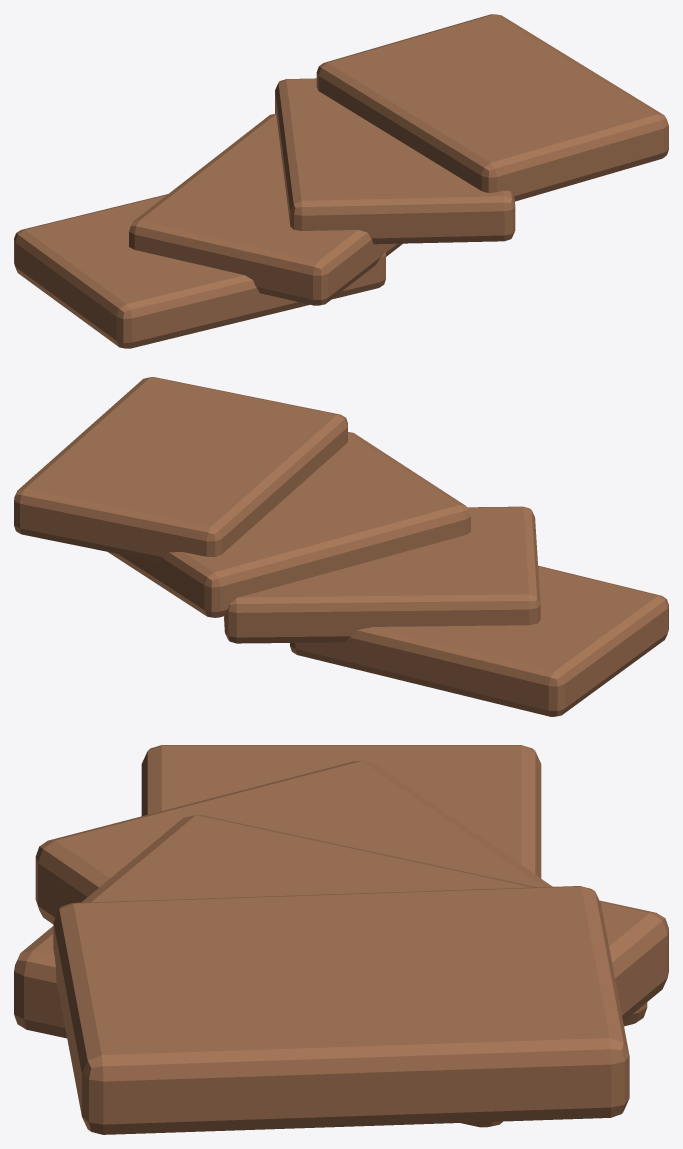
Rendered from scrap.glb.
The picture shows the model from 3 angles, top to bottom: view 1: azimuth 30°, elevation 25°; view 2: azimuth 150°, elevation 25°; view 3: azimuth 270°, elevation 25°; orthographic projection. The views are drawn at different scales.
Parts seen in each view (by area): view 1: Bent scrap plate.003, Bent scrap plate.002, Bent scrap plate.001, Bent scrap plate; view 2: Bent scrap plate.003, Bent scrap plate, Bent scrap plate.002, Bent scrap plate.001; view 3: Bent scrap plate.003, Bent scrap plate.002, Bent scrap plate.001, Bent scrap plate.
Boxes of the visible parts, <box> form: Bent scrap plate.003: <box>316,14,668,201</box>; Bent scrap plate.002: <box>275,78,515,244</box>; Bent scrap plate.001: <box>129,113,402,305</box>; Bent scrap plate: <box>14,194,385,348</box>; Bent scrap plate.003: <box>14,377,347,561</box>; Bent scrap plate: <box>290,565,668,716</box>; Bent scrap plate.002: <box>108,432,470,617</box>; Bent scrap plate.001: <box>224,506,540,643</box>; Bent scrap plate.003: <box>53,886,629,1134</box>; Bent scrap plate.002: <box>14,815,668,1127</box>; Bent scrap plate.001: <box>35,761,647,1026</box>; Bent scrap plate: <box>141,745,541,878</box>.
Bounding box in the file's own units: 0.4378 × 0.095 × 0.2623.
